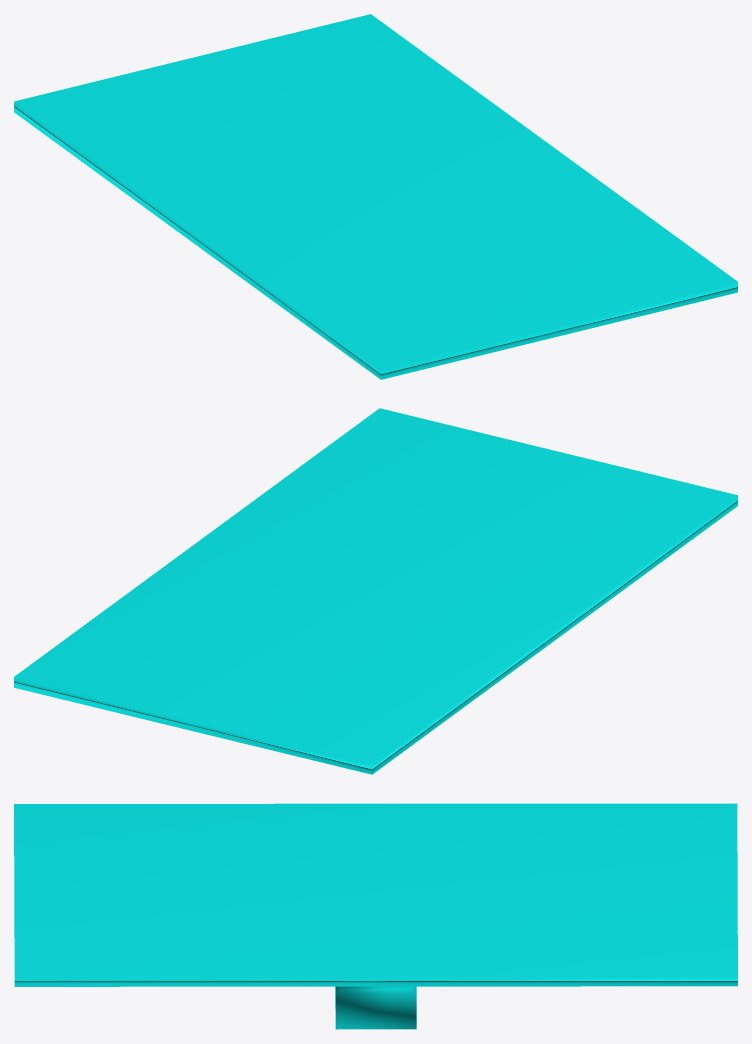
File: mdl_Corredor_Mesa_Media.fbx
The picture shows the model from 3 angles, top to bottom: view 1: azimuth 30°, elevation 25°; view 2: azimuth 150°, elevation 25°; view 3: azimuth 270°, elevation 25°; orthographic projection.
Parts seen in each view (by area): view 1: mdl_Corredor_Mesa_Media; view 2: mdl_Corredor_Mesa_Media; view 3: mdl_Corredor_Mesa_Media.
Boxes of the visible parts, x1,y1,x2,y2 form: mdl_Corredor_Mesa_Media: (14,14,737,379); mdl_Corredor_Mesa_Media: (14,408,737,774); mdl_Corredor_Mesa_Media: (14,803,737,1029).
Size of the model in its own units: 2.46 by 0.8119 by 4.35.
